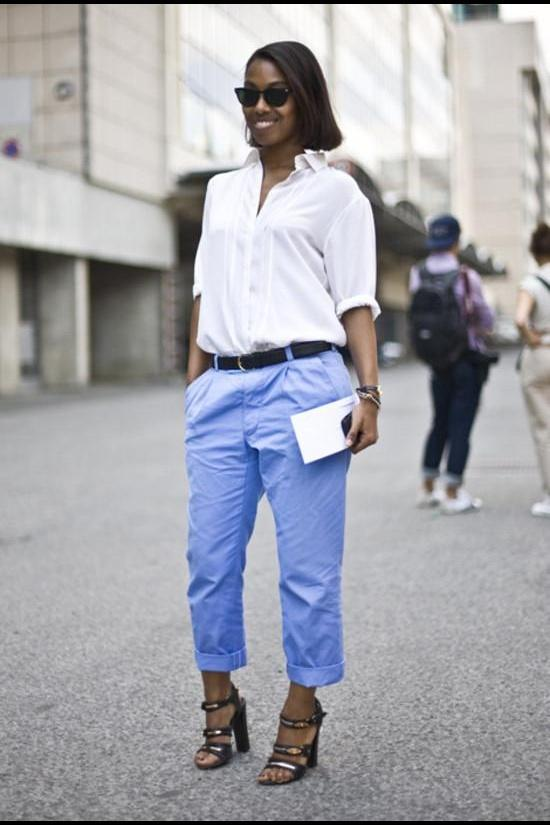pants: (181, 342, 355, 688)
shirt: (191, 149, 382, 351)
